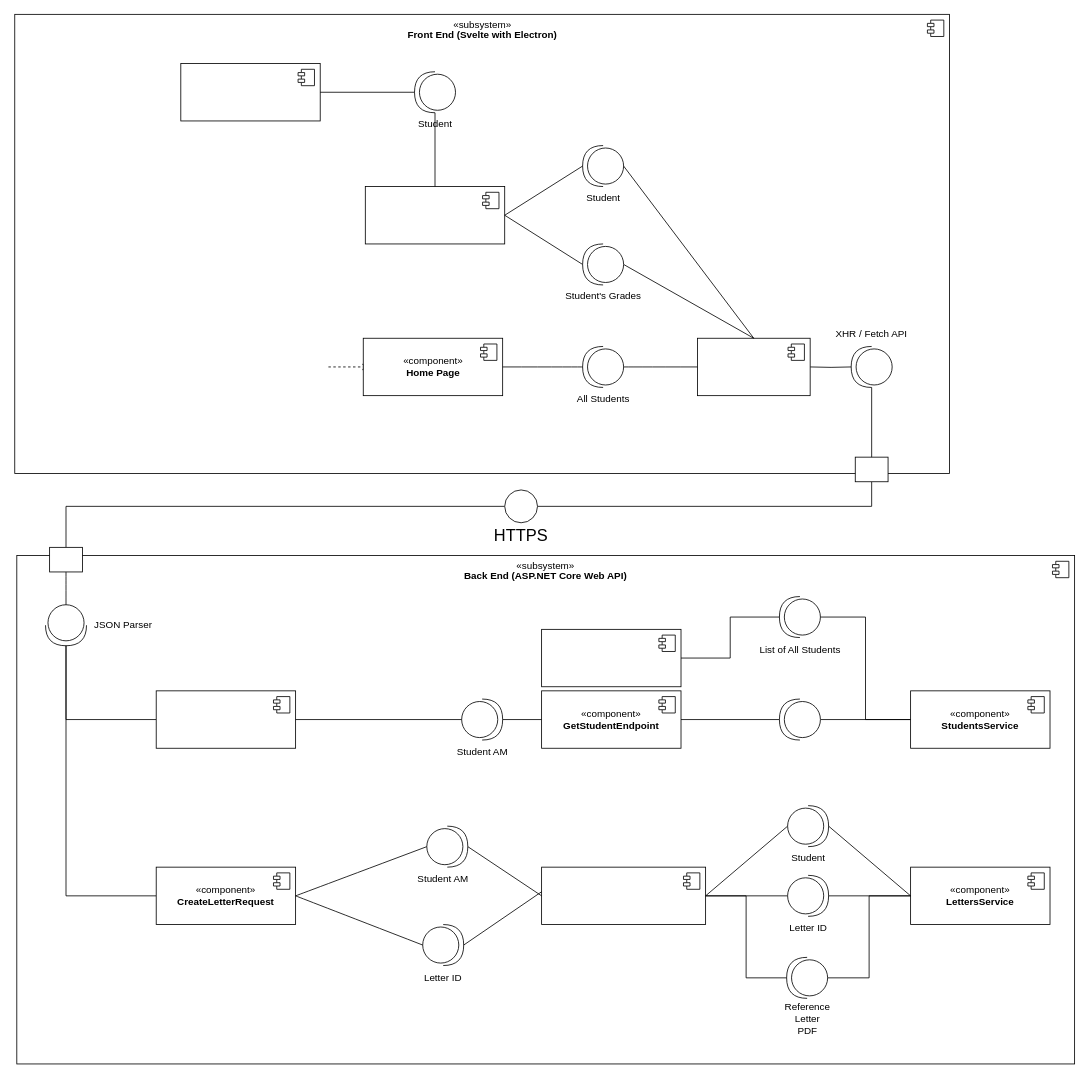
This 1089x1078 diagram has some shape labels left out. The centre of each missing label's shape, as x and y in pixels:
"Student with Grades" goes at [799,719].
"«component» CreateReferenceLetterEndpoint" goes at [623,895].
"«component» fetch()" goes at [753,366].
"«component» GetAllStudentsEndpoint" goes at [611,658].
"«component» GetStudentRequest" goes at [225,719].
"«component» Letter Selection Page" goes at [250,92].
"«component» Student Profile Page" goes at [434,215].
